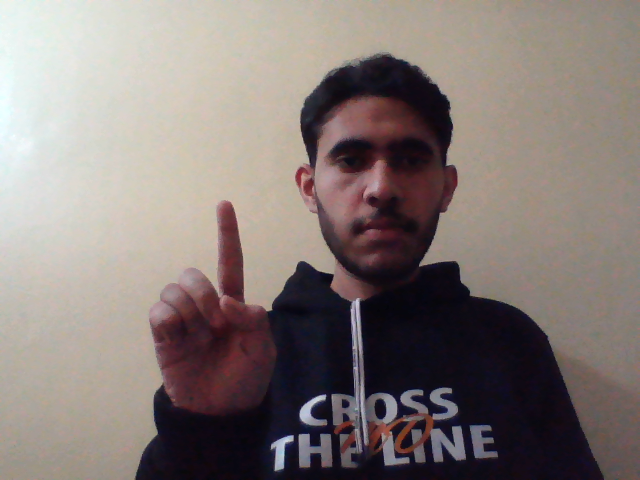D: (147, 195, 282, 420)
